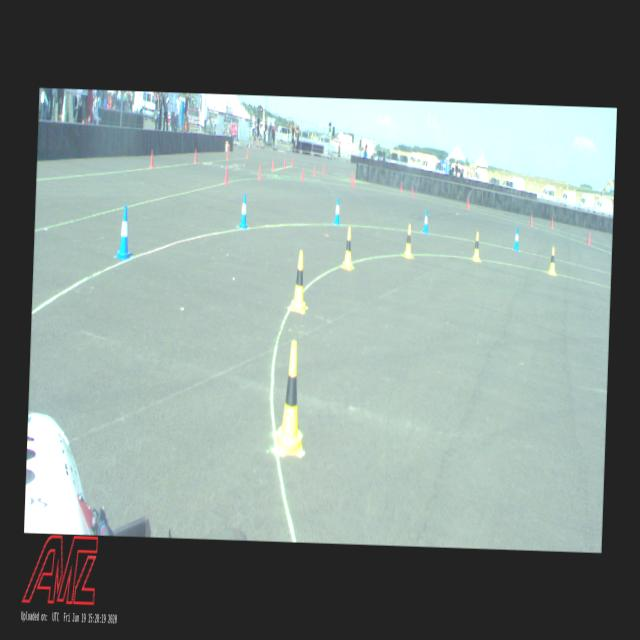blue_cone: (115, 204, 133, 260), (238, 192, 249, 228), (333, 197, 340, 224), (512, 227, 520, 250), (422, 208, 428, 232)
yellow_cone: (276, 340, 306, 456), (290, 249, 308, 312), (341, 227, 354, 270), (404, 223, 413, 257), (547, 246, 556, 274), (472, 232, 481, 260)
